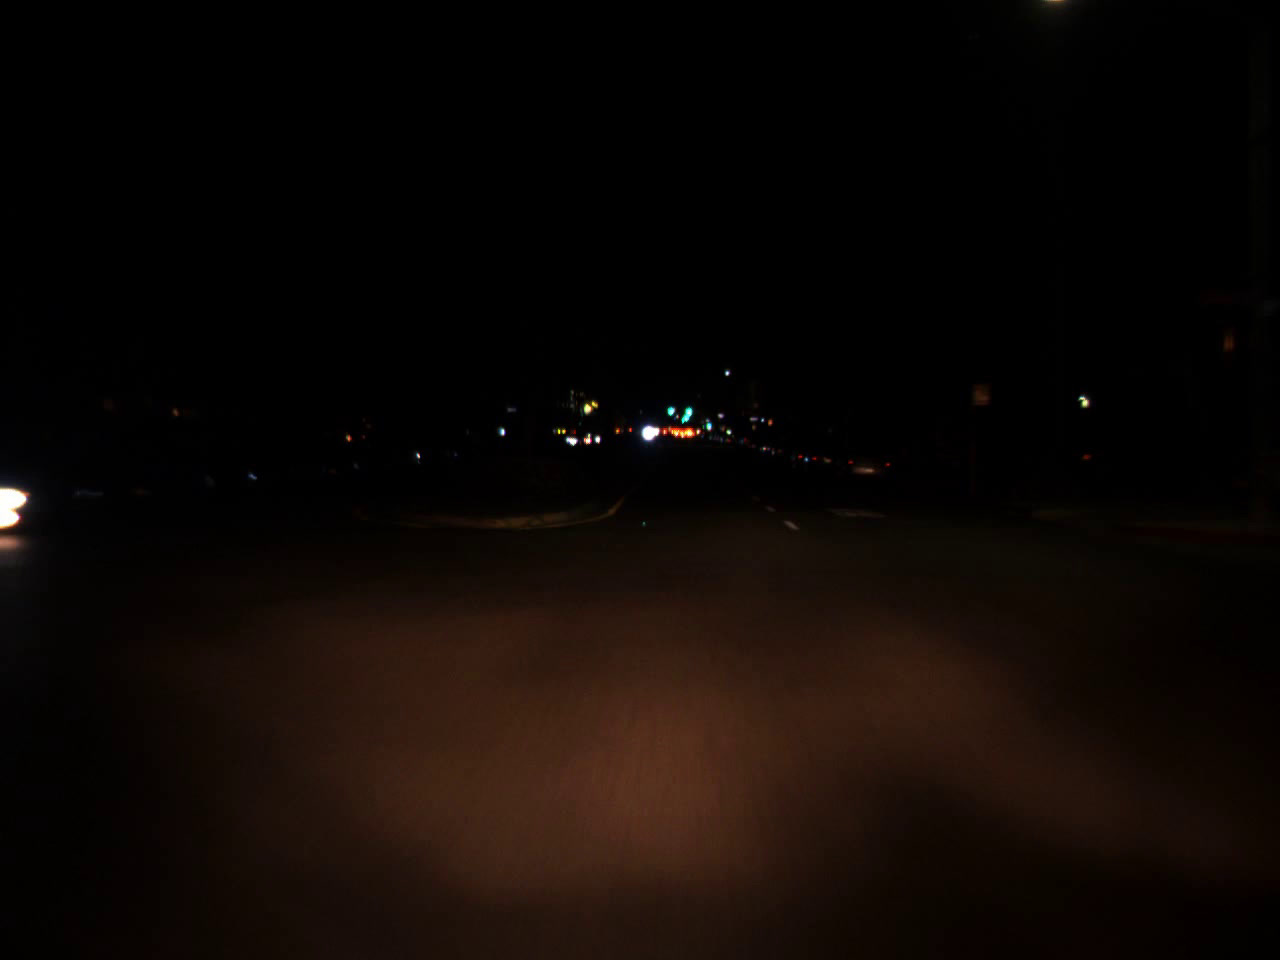go: (681, 401, 693, 419), (665, 396, 674, 419)
